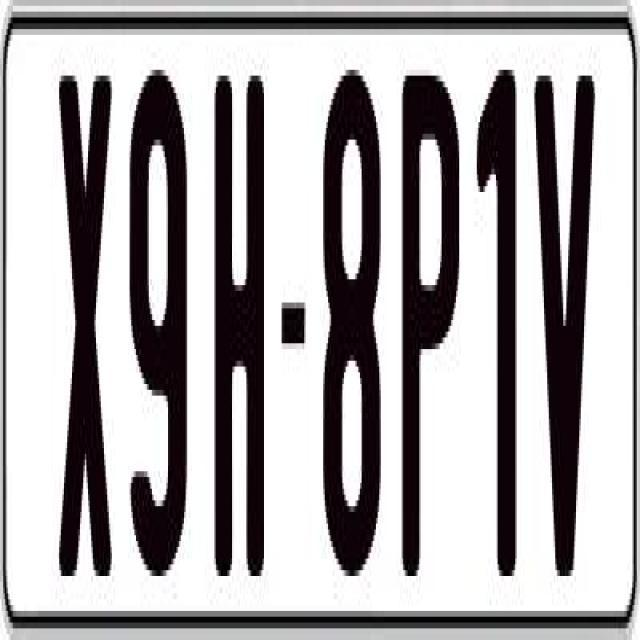1: (472, 70, 510, 611)
8: (320, 58, 384, 588)
9: (126, 64, 189, 576)
H: (214, 58, 266, 559)
P: (398, 64, 458, 582)
V: (530, 70, 596, 588)
X: (59, 70, 120, 570)
